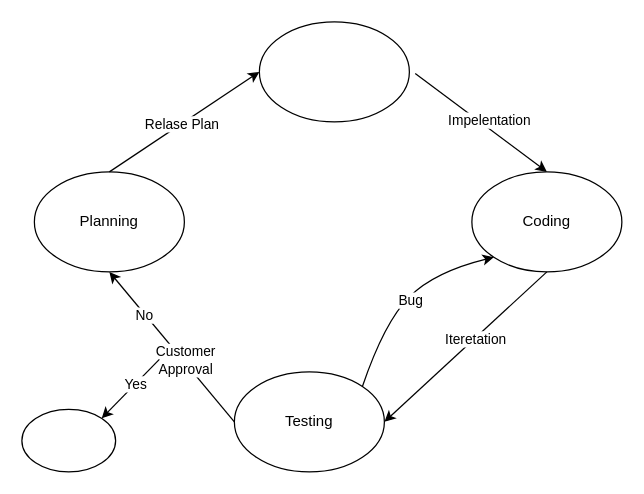
This 644x494 diagram has some shape labels left out. The box of each missing label's shape, as (x1, y1, x2, y2) in pixels:
Design: (258, 21, 409, 122)
Relase: (21, 408, 116, 472)
